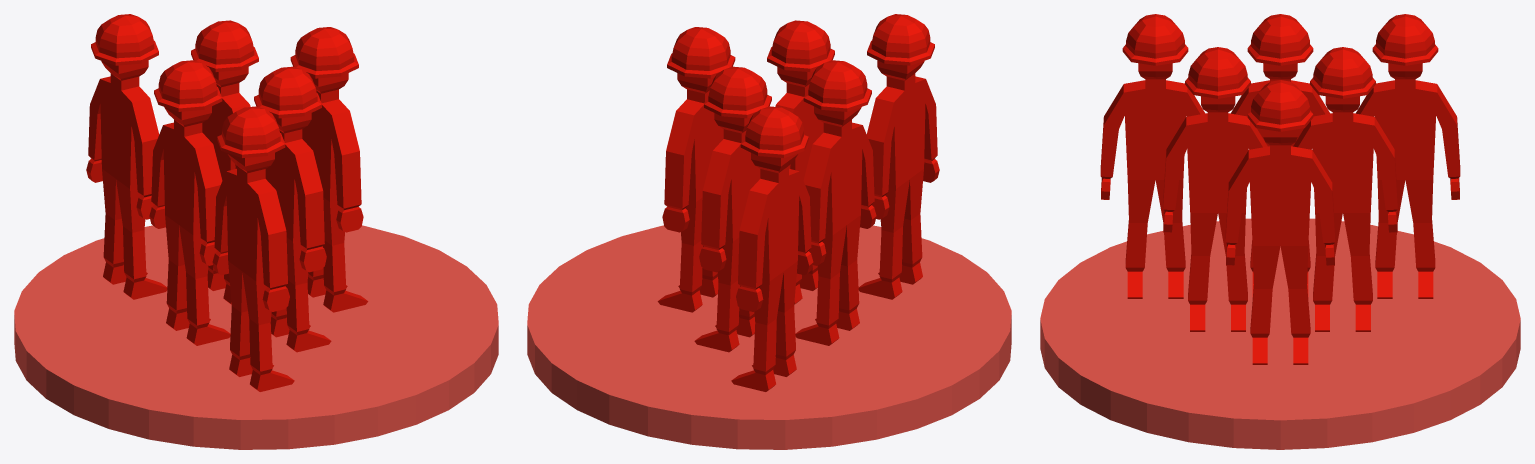
Rendered from infantryRed.fbx.
The picture shows the model from 3 angles, left to right: view 1: azimuth 30°, elevation 25°; view 2: azimuth 150°, elevation 25°; view 3: azimuth 270°, elevation 25°; orthographic projection.
Visible parts, largest first — view 1: infantryRed; view 2: infantryRed; view 3: infantryRed.
Part boxes in pixels (<box>): infantryRed: <box>14,14,498,449</box>; infantryRed: <box>527,14,1011,449</box>; infantryRed: <box>1040,14,1520,449</box>.
Size of the model in its own units: 154 by 106 by 154.
